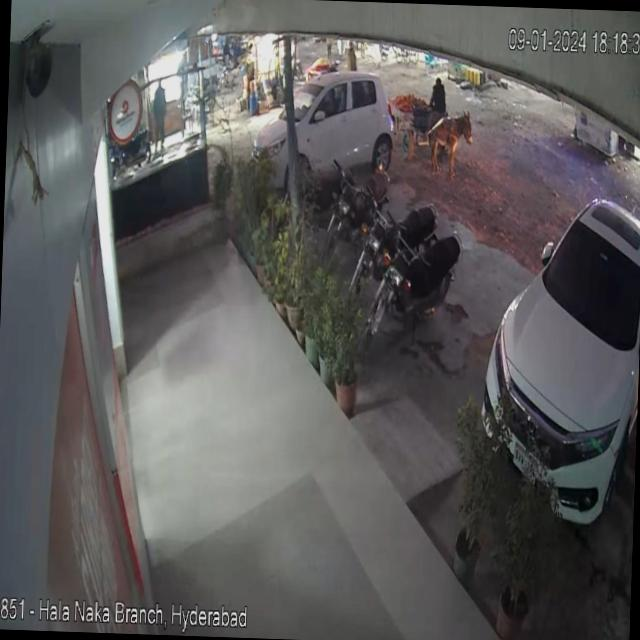Car: (475, 148, 640, 538), (230, 54, 400, 180)
Motorcycle: (354, 245, 470, 362), (338, 194, 443, 300), (327, 158, 396, 252)
